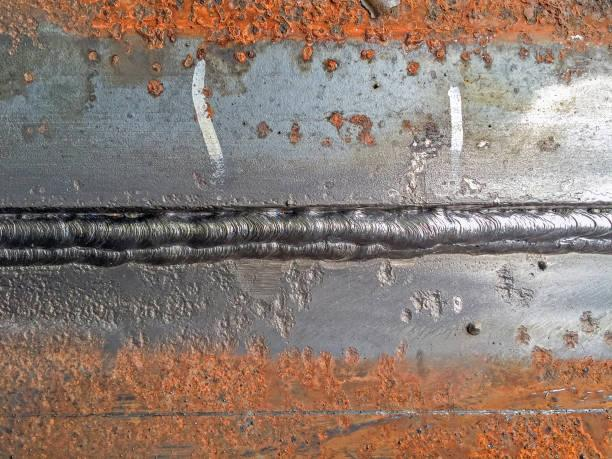slag: (0, 189, 612, 271)
